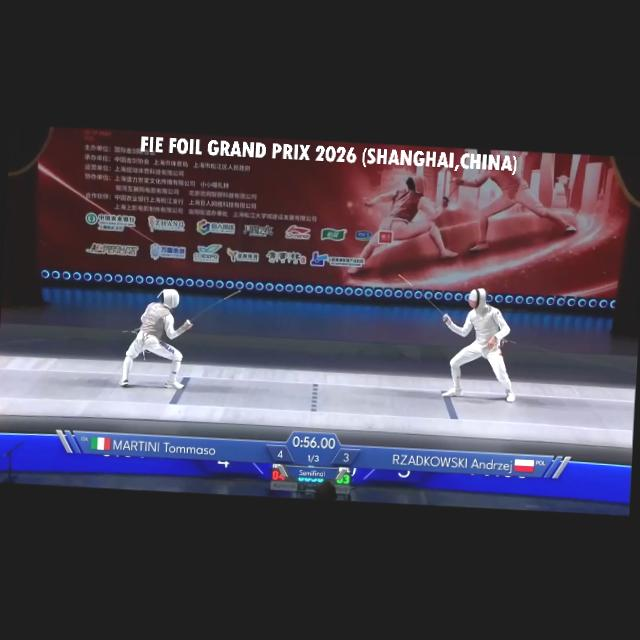blade: (393, 271, 456, 326), (183, 282, 246, 332)
